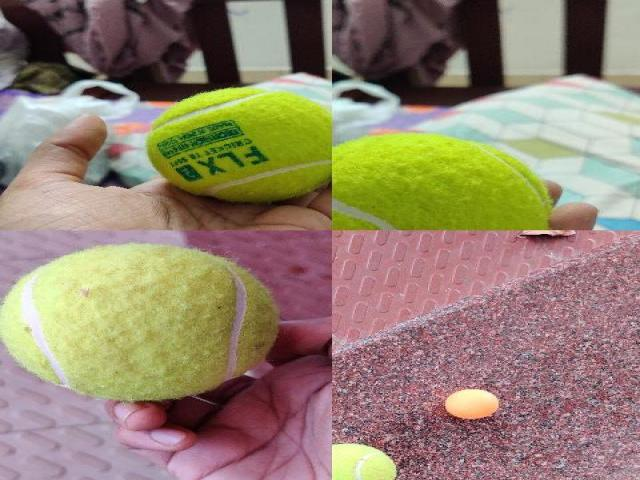tennis-ball: (0, 243, 280, 400), (332, 132, 554, 230), (145, 87, 331, 202), (332, 443, 397, 479)
